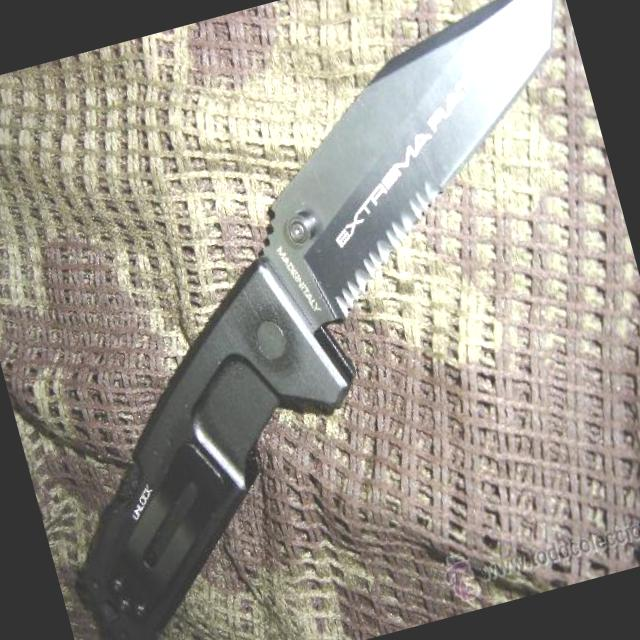knife: (184, 0, 632, 355)
